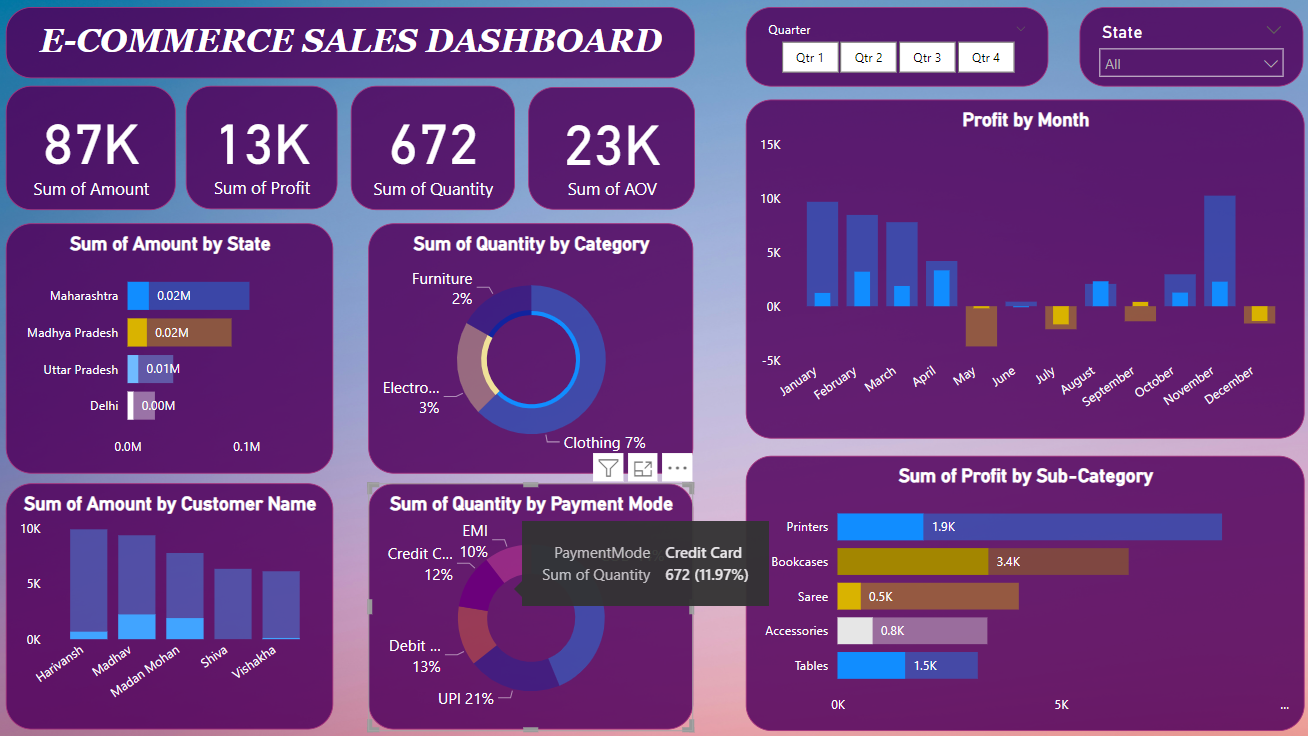

The page's visual inventory and layout, read from the dashboard file:
{"tool":"powerbi","page":{"name":"Page 1","canvas":[1280,720],"ordinal":0},"visuals":[{"type":"textbox","box":[13.3,14.5,664.5,68.7],"z":0},{"type":"columnChart","title":"Profit by Month","fields":{"Category":["Orders.Order Date.Variation.Date Hierarchy.Month"],"Y":["Sum(Details.Profit)"]},"box":[727.2,103.7,539.1,326.8],"z":1000},{"type":"barChart","fields":{"Category":["Details.Sub-Category"],"Y":["Sum(Details.Profit)"]},"box":[726,445,539.1,266.5],"z":2000},{"type":"donutChart","fields":{"Category":["Details.Category"],"Y":["Sum(Details.Quantity)"]},"box":[363,223.1,313.6,241.2],"z":3000},{"type":"donutChart","title":"Sum of Quantity by Payment Mode","fields":{"Y":["Sum(Details.Quantity)"],"Category":["Details.PaymentMode"]},"box":[362.5,473.9,313.6,238.6],"z":4000},{"type":"card","fields":{"Values":["Sum(Details.Amount)"]},"box":[13,91,164,120],"z":5000},{"type":"card","fields":{"Values":["Sum(Details.Quantity)"]},"box":[346,90,158,120],"z":6000},{"type":"card","fields":{"Values":["Sum(Details.Profit)"]},"box":[187,91,146,119],"z":7000},{"type":"card","fields":{"Values":["Sum(Details.AOV)"]},"box":[517,92,161,118],"z":8000},{"type":"barChart","fields":{"Category":["Orders.State"],"Y":["Sum(Details.Amount)"]},"box":[13.3,223.1,316,241.2],"z":9000},{"type":"columnChart","title":"Sum of Amount by Customer Name","fields":{"Category":["Orders.CustomerName"],"Y":["Sum(Details.Amount)"]},"box":[13.6,473.9,315.9,238.6],"z":10000},{"type":"slicer","fields":{"Values":["Orders.Order Date.Variation.Date Hierarchy.Quarter"]},"box":[727.2,14.5,291.9,77.2],"z":11000},{"type":"slicer","fields":{"Values":["Orders.State"]},"box":[1049.2,14.5,215.9,77.2],"z":12000}]}

Visuals, with their boxes in screenshot pixels (x1, y1, x2, y2), scaled from the page's 1280x720 canvas onto the 1308x736 screenshot:
textbox: l=14, t=15, r=693, b=85
"Profit by Month" columnChart: l=743, t=106, r=1294, b=440
barChart - Details.Sub-Category x Sum(Details.Profit): l=742, t=455, r=1293, b=727
donutChart - Details.Category x Sum(Details.Quantity): l=371, t=228, r=691, b=475
"Sum of Quantity by Payment Mode" donutChart: l=370, t=484, r=691, b=728
card - Sum(Details.Amount): l=13, t=93, r=181, b=216
card - Sum(Details.Quantity): l=354, t=92, r=515, b=215
card - Sum(Details.Profit): l=191, t=93, r=340, b=215
card - Sum(Details.AOV): l=528, t=94, r=693, b=215
barChart - Orders.State x Sum(Details.Amount): l=14, t=228, r=337, b=475
"Sum of Amount by Customer Name" columnChart: l=14, t=484, r=337, b=728
slicer - Orders.Order Date.Variation.Date Hierarchy.Quarter: l=743, t=15, r=1041, b=94
slicer - Orders.State: l=1072, t=15, r=1293, b=94
